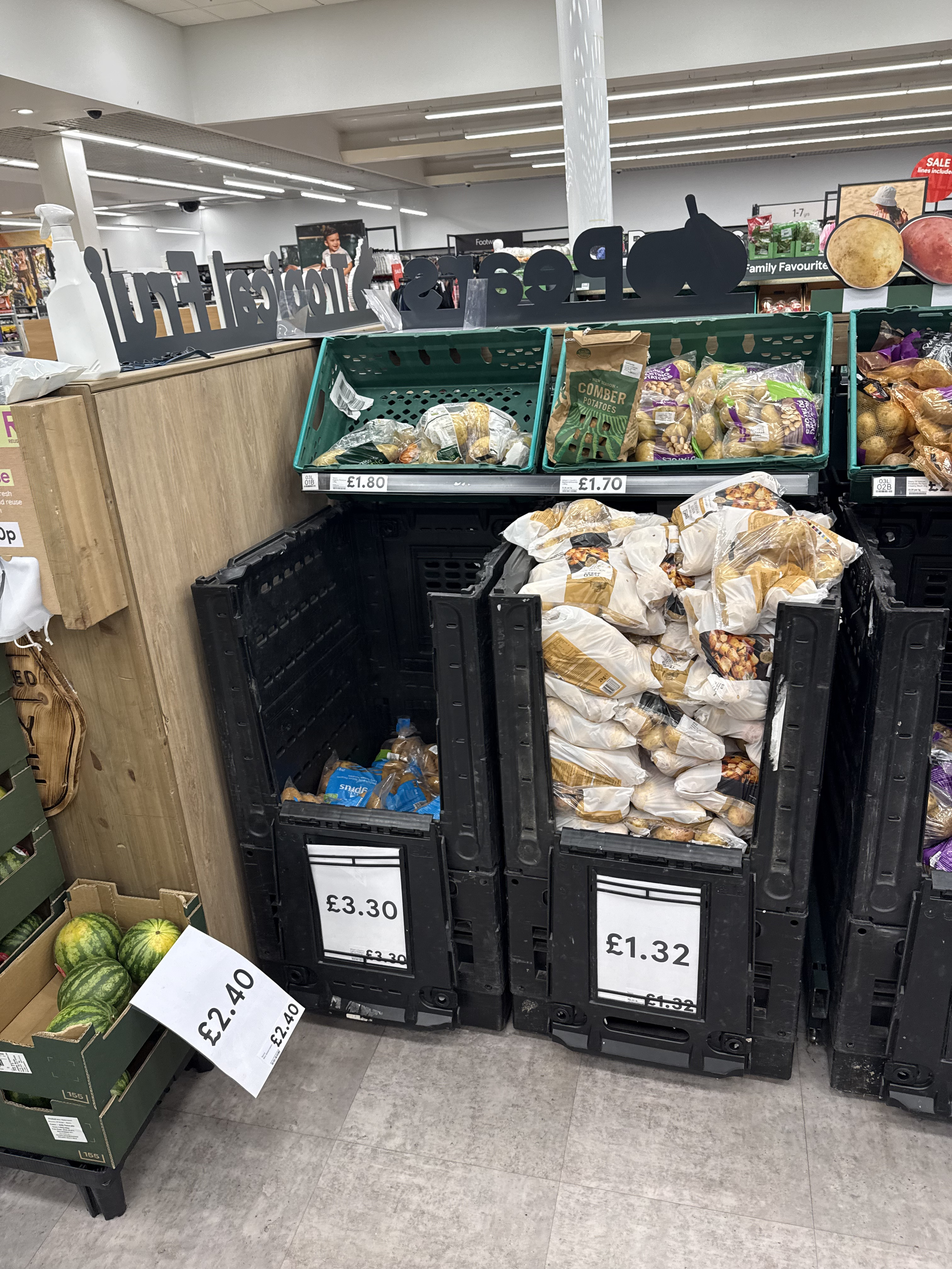medium: (256, 996, 305, 1068), (625, 987, 696, 1014), (349, 945, 407, 969), (559, 476, 627, 494), (330, 474, 388, 491), (906, 476, 952, 497)
